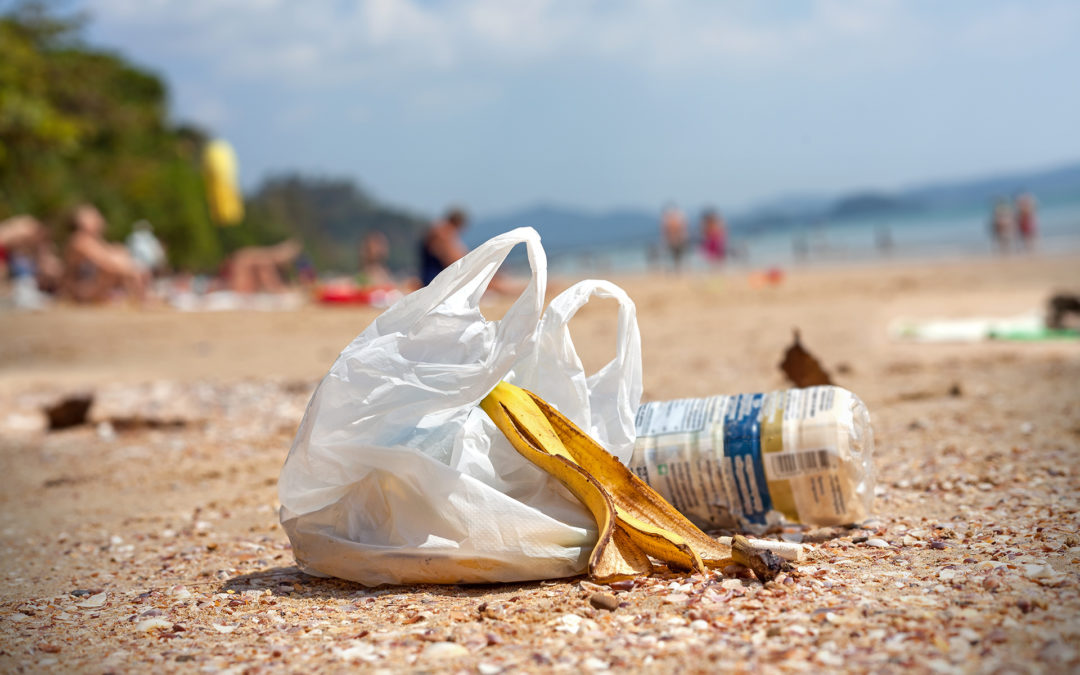bottle: (629, 383, 883, 533)
